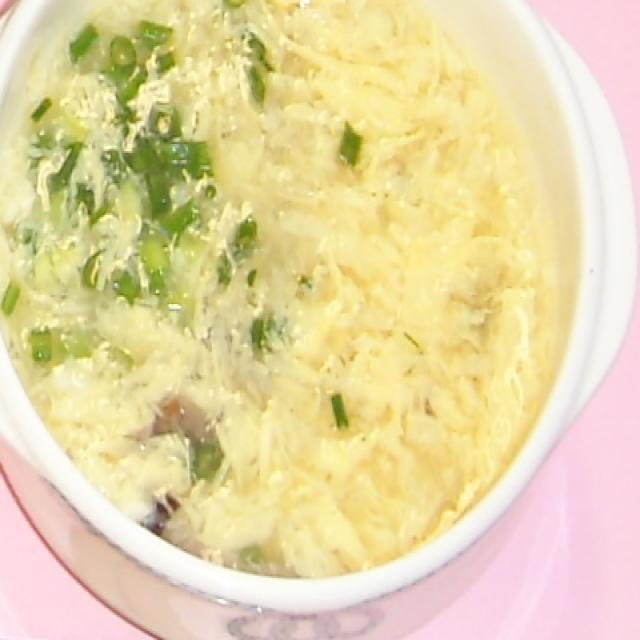汤锅炖物: (4, 6, 628, 604)
